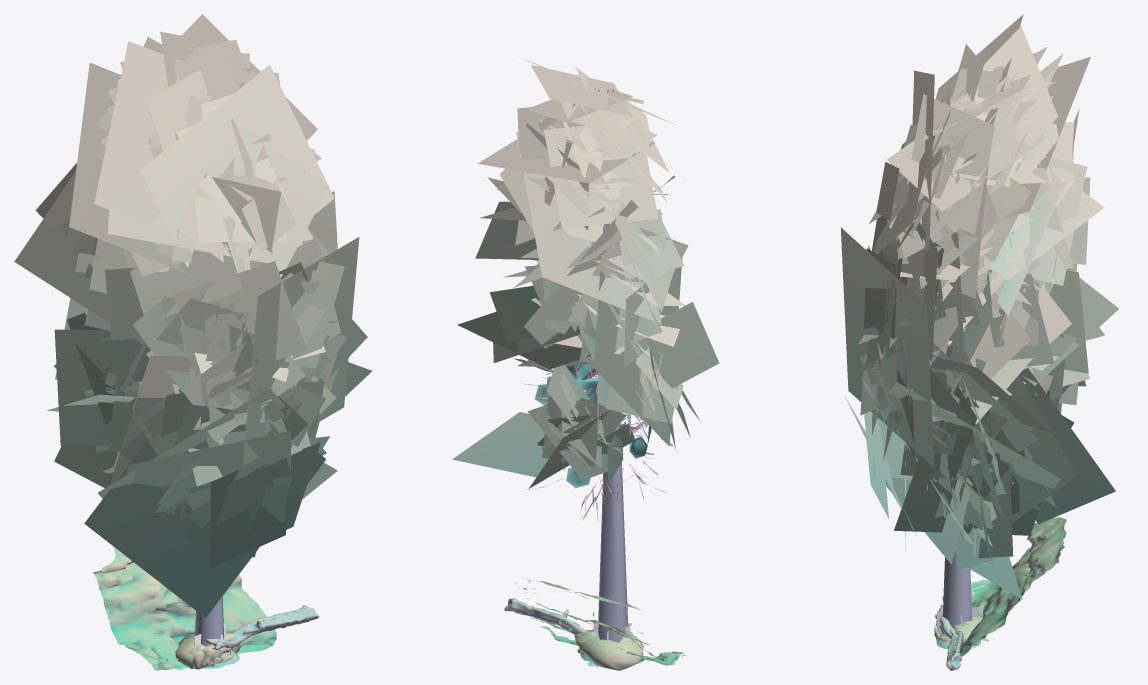
The model's file is nature.glb.
The picture shows the model from 3 angles, left to right: view 1: azimuth 30°, elevation 25°; view 2: azimuth 150°, elevation 25°; view 3: azimuth 270°, elevation 25°; orthographic projection. The views are drawn at different scales.
Visible parts, largest first — view 1: tree_a_wood_leaf, tree_a_far_leaf, tree_a_leaf, rock_face, tree_b_wood_leaf, tree_c_far_leaf, tree_c_wood_leaf, dead_trunk, tree_c_leaf, tree_c_wood; view 2: tree_a_far_leaf, tree_a_leaf, tree_a_wood_leaf, tree_b_far_leaf, tree_b_leaf, tree_c_wood, pebble_b, tree_c_far_leaf, rock_face, dead_trunk, tree_b_wood_leaf, tree_b_far; view 3: tree_a_far_leaf, tree_a_wood_leaf, tree_a_leaf, tree_b_wood_leaf, tree_c_wood_leaf, rock_face, tree_b_far_leaf, tree_c_leaf, tree_c_wood, tree_b_leaf, tree_c_far_leaf, dead_trunk.
Boxes of the visible parts, x1,y1,x2,y2 form: tree_a_wood_leaf: (14,14,372,617); tree_a_far_leaf: (47,31,344,567); tree_a_leaf: (84,53,337,532); rock_face: (93,546,276,670); tree_b_wood_leaf: (54,345,337,557); tree_c_far_leaf: (124,333,329,453); tree_c_wood_leaf: (106,334,346,452); dead_trunk: (204,605,319,649); tree_c_leaf: (216,367,323,446); tree_c_wood: (194,596,223,657); tree_a_far_leaf: (452,57,688,477); tree_a_leaf: (475,87,719,455); tree_a_wood_leaf: (457,132,682,446); tree_b_far_leaf: (527,292,683,488); tree_b_leaf: (517,304,690,483); tree_c_wood: (546,376,628,642); pebble_b: (578,637,643,670); tree_c_far_leaf: (503,270,677,423); rock_face: (515,577,685,665); dead_trunk: (504,598,631,634); tree_b_wood_leaf: (554,279,685,358); tree_b_far: (566,366,658,488); tree_a_far_leaf: (845,26,1118,535); tree_a_wood_leaf: (840,14,1115,550); tree_a_leaf: (863,44,1076,493); tree_b_wood_leaf: (858,274,1071,599); tree_c_wood_leaf: (900,229,1086,479); rock_face: (942,517,1066,656); tree_b_far_leaf: (890,297,1089,569); tree_c_leaf: (860,355,1066,490); tree_c_wood: (942,550,972,633); tree_b_leaf: (909,382,1078,556); tree_c_far_leaf: (865,339,1070,476); dead_trunk: (935,604,963,670).
Bounding box in the file's own units: 11.13 × 20.5 × 9.21.
